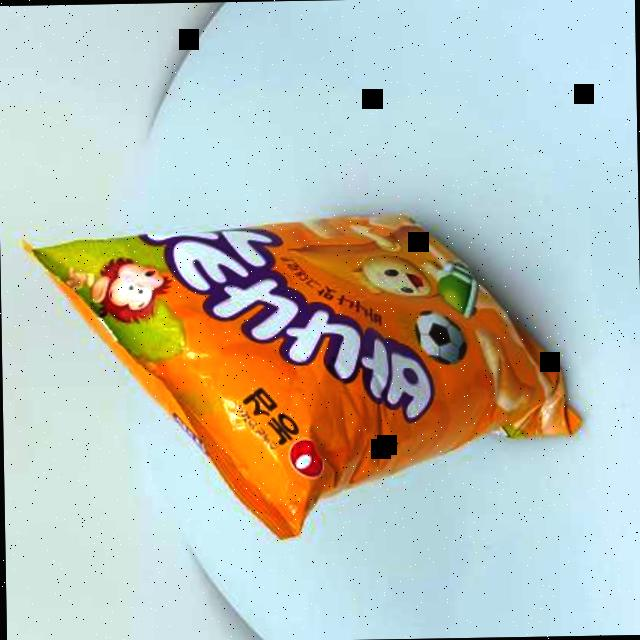snack_bag: (10, 199, 588, 564)
